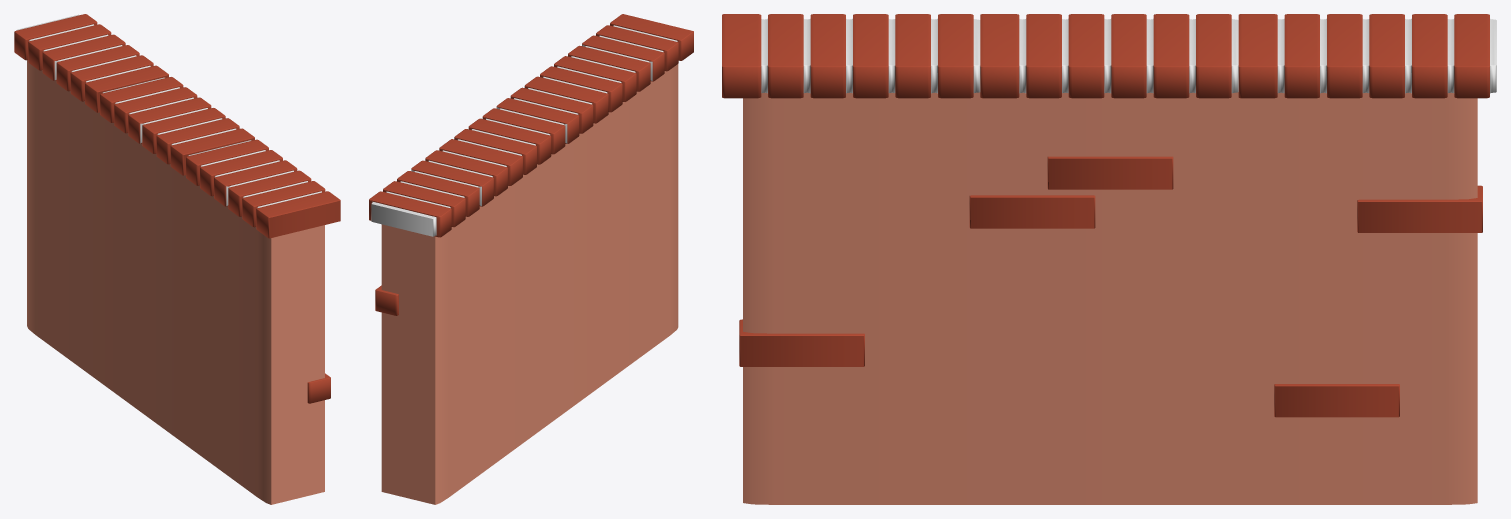
The model's file is plataforma1.fbx.
3 renders of one model, left to right at view 1: azimuth 30°, elevation 25°; view 2: azimuth 150°, elevation 25°; view 3: azimuth 270°, elevation 25°, orthographic. The views are drawn at different scales.
Visible parts, largest first — view 1: Cube.007; view 2: Cube.007; view 3: Cube.007.
Part boxes in pixels (<box>): Cube.007: <box>14,14,340,504</box>; Cube.007: <box>369,14,693,504</box>; Cube.007: <box>722,14,1496,504</box>.
Size of the model in its own units: 145 by 564 by 893.
